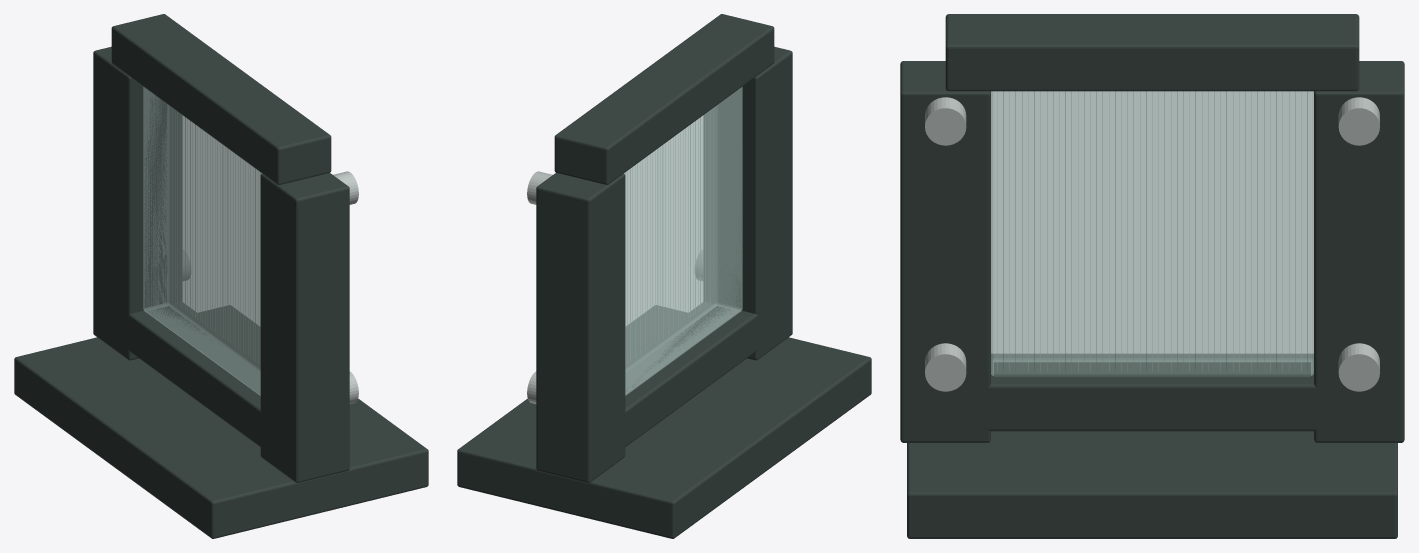
The model's file is grating-product.glb.
3 renders of one model, left to right at view 1: azimuth 30°, elevation 25°; view 2: azimuth 150°, elevation 25°; view 3: azimuth 270°, elevation 25°, orthographic. The views are drawn at different scales.
Parts seen in each view (by area): view 1: HOLDER_BASE, HOLDER_SIDE, GRATING_SUBSTRATE, HOLDER_SIDE.001, HOLDER_RAIL.001, HOLDER_RAIL; view 2: HOLDER_BASE, HOLDER_SIDE.001, GRATING_SUBSTRATE, HOLDER_SIDE, HOLDER_RAIL.001, HOLDER_RAIL; view 3: GRATING_SUBSTRATE, HOLDER_BASE, HOLDER_RAIL.001, HOLDER_SIDE.001, HOLDER_SIDE, HOLDER_RAIL, CLAMP_SCREW.001, CLAMP_SCREW.003, CLAMP_SCREW, CLAMP_SCREW.002.
Boxes of the visible parts, box(x1,y1,x2,y2) form: HOLDER_BASE: box(14, 305, 428, 538); HOLDER_SIDE: box(260, 173, 349, 482); GRATING_SUBSTRATE: box(143, 86, 261, 395); HOLDER_SIDE.001: box(93, 46, 181, 360); HOLDER_RAIL.001: box(111, 14, 331, 184); HOLDER_RAIL: box(112, 302, 274, 455); HOLDER_BASE: box(457, 305, 871, 538); HOLDER_SIDE.001: box(536, 173, 625, 482); GRATING_SUBSTRATE: box(624, 86, 742, 395); HOLDER_SIDE: box(704, 46, 792, 360); HOLDER_RAIL.001: box(554, 14, 774, 184); HOLDER_RAIL: box(611, 302, 758, 453); GRATING_SUBSTRATE: box(991, 91, 1313, 376); HOLDER_BASE: box(907, 431, 1397, 538); HOLDER_RAIL.001: box(945, 14, 1359, 91); HOLDER_SIDE.001: box(1314, 61, 1404, 442); HOLDER_SIDE: box(900, 61, 990, 442); HOLDER_RAIL: box(949, 354, 1355, 431); CLAMP_SCREW.001: box(925, 97, 966, 145); CLAMP_SCREW.003: box(1338, 97, 1379, 145); CLAMP_SCREW: box(925, 343, 966, 391); CLAMP_SCREW.002: box(1338, 343, 1379, 391).
Bounding box in the file's own units: 0.024 × 0.038 × 0.039.
